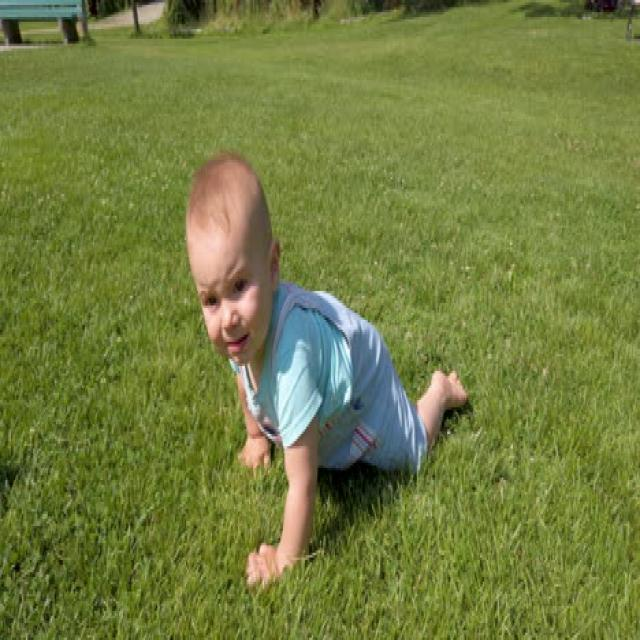Person: (186, 153, 468, 590)
